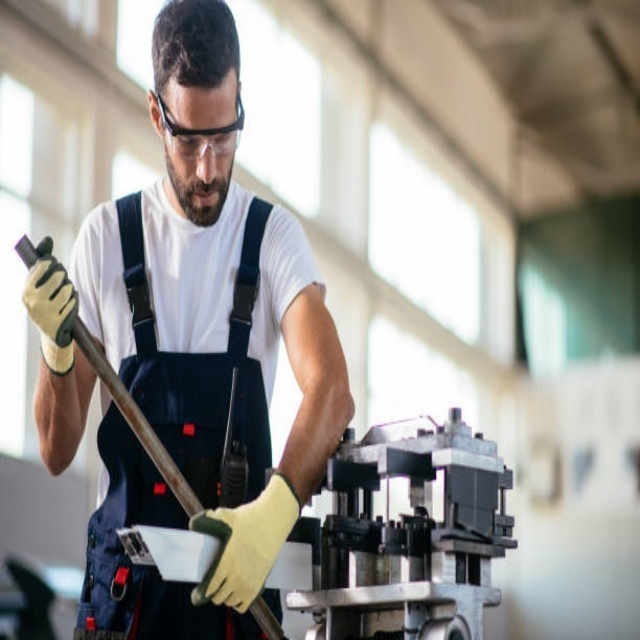Gafas: (154, 87, 243, 160)
Guantes: (188, 470, 302, 614), (21, 238, 78, 373)
Sin_mascara: (179, 177, 230, 221)
